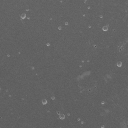corrosion: (55, 109, 67, 120), (18, 11, 29, 21), (100, 23, 109, 33), (115, 60, 124, 69), (39, 97, 48, 105), (56, 24, 63, 31), (45, 41, 51, 48), (100, 100, 105, 106), (99, 14, 104, 19)
